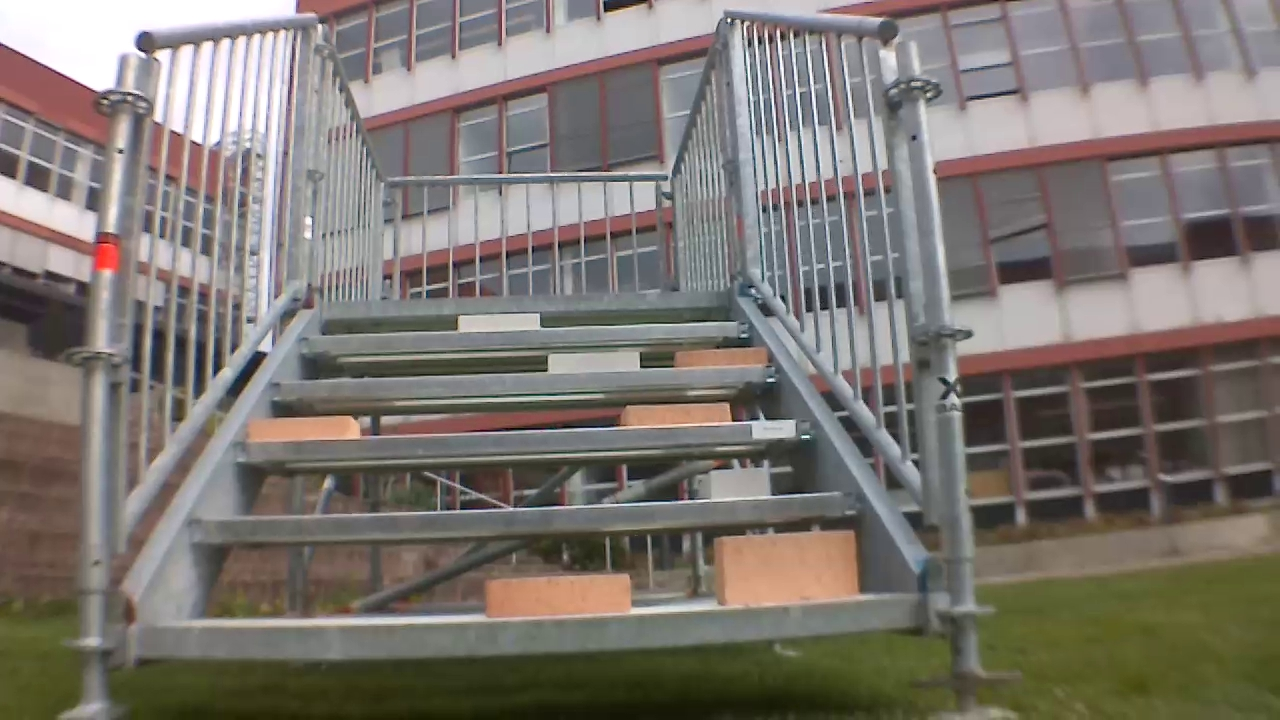brick: (710, 533, 869, 605), (480, 575, 654, 620), (237, 412, 359, 445), (695, 463, 763, 505), (625, 400, 731, 425), (541, 345, 644, 369), (681, 345, 769, 367), (451, 314, 551, 333)
edge: (137, 595, 926, 663), (180, 490, 856, 544), (232, 417, 819, 464), (265, 366, 782, 403), (295, 319, 761, 356), (326, 287, 729, 318)
stairs: (108, 13, 953, 697)
steps: (124, 287, 957, 652)
